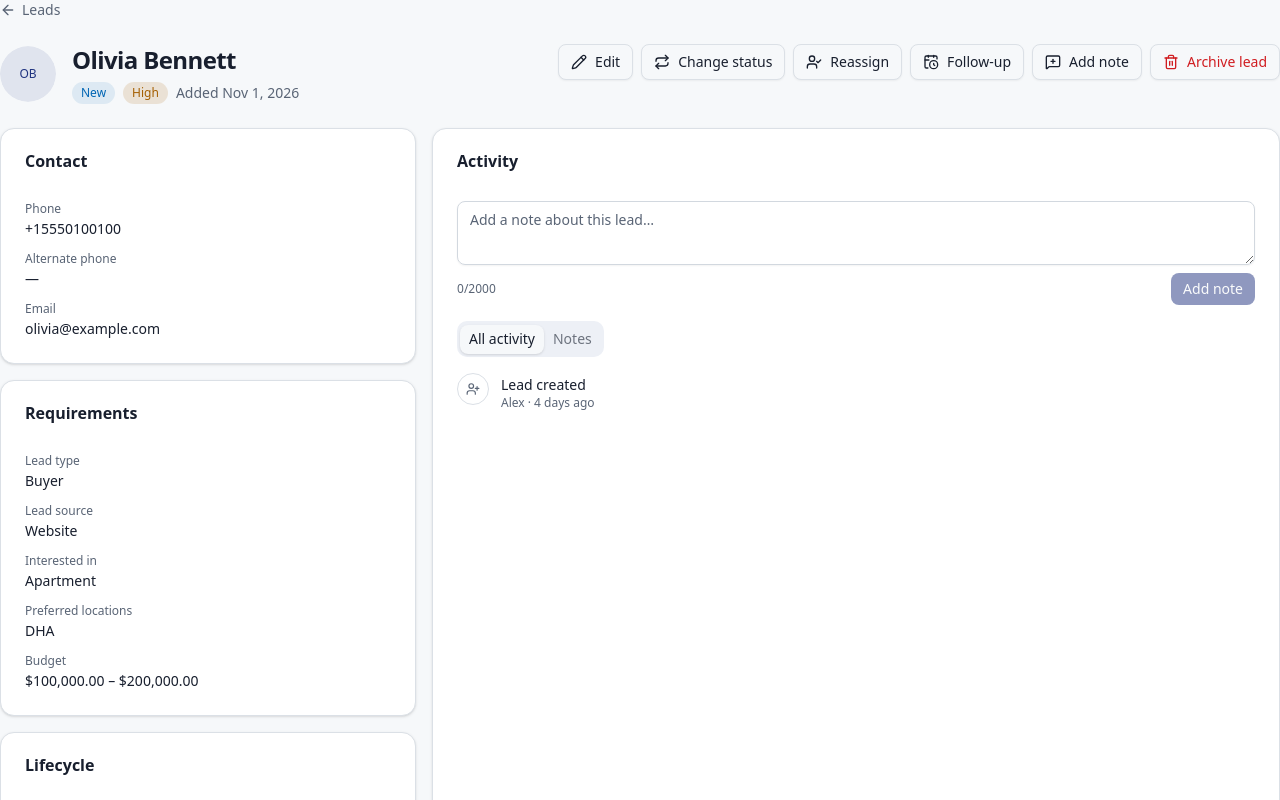
LeadDetailPage › requires a reason before marking a lead as lost
Step 1. Click the button "Change status" → click(713, 62), box [641, 44, 785, 80]
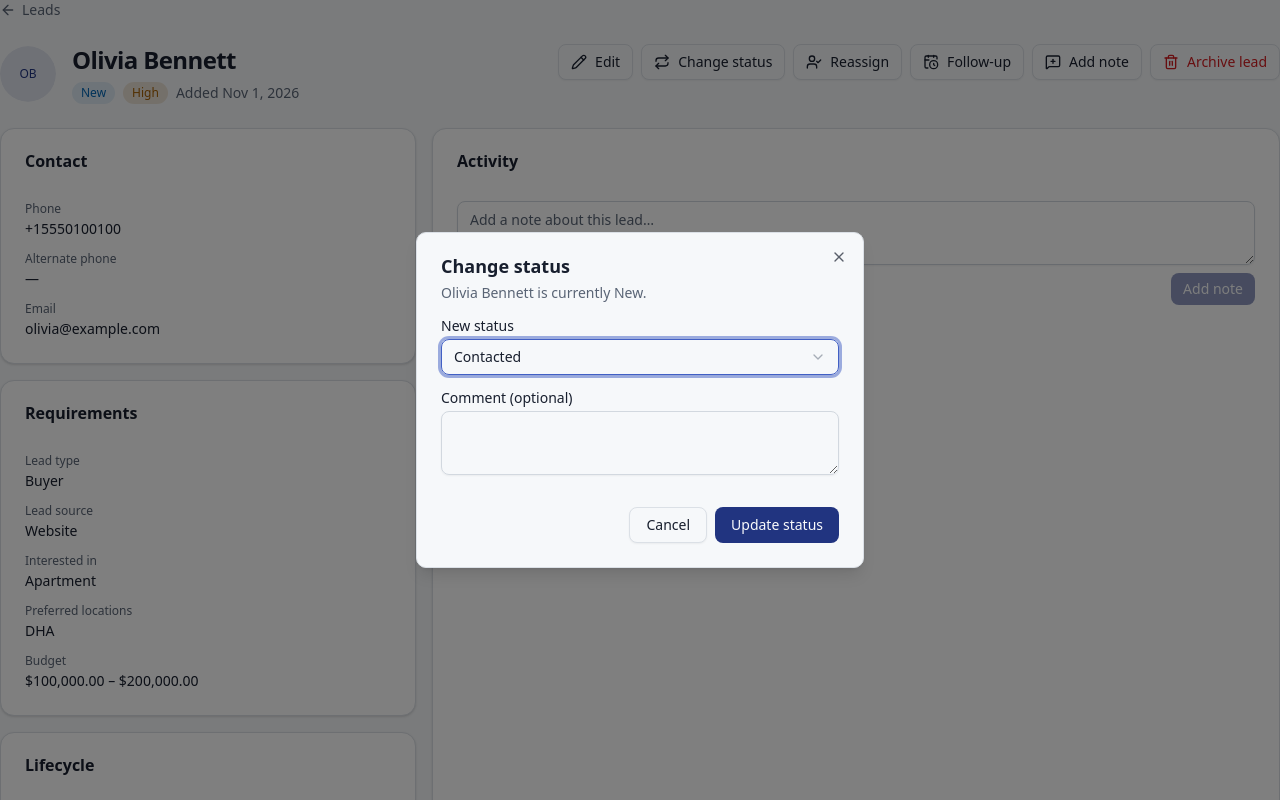
Step 2. Click the dropdown → click(488, 356), box [441, 339, 839, 375]
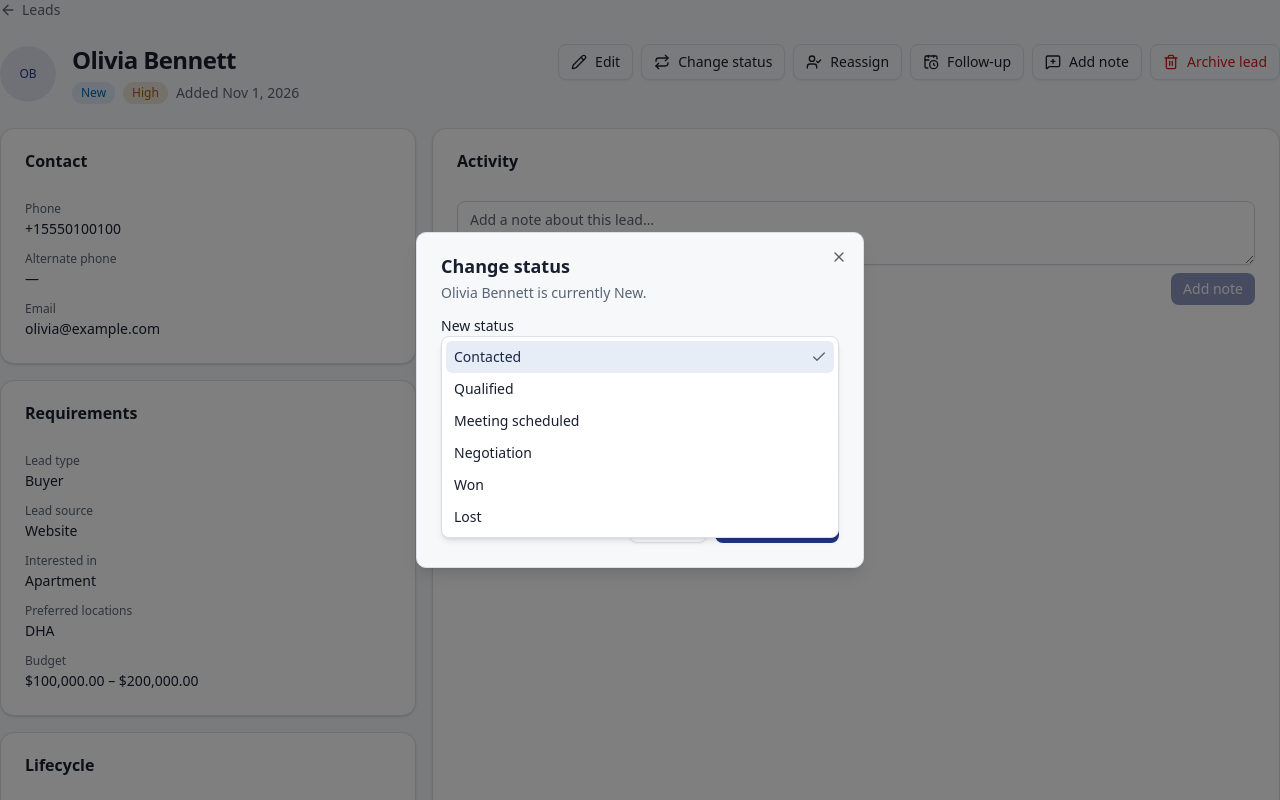
Step 3. Click the option "Lost" → click(468, 516), box [454, 507, 482, 526]
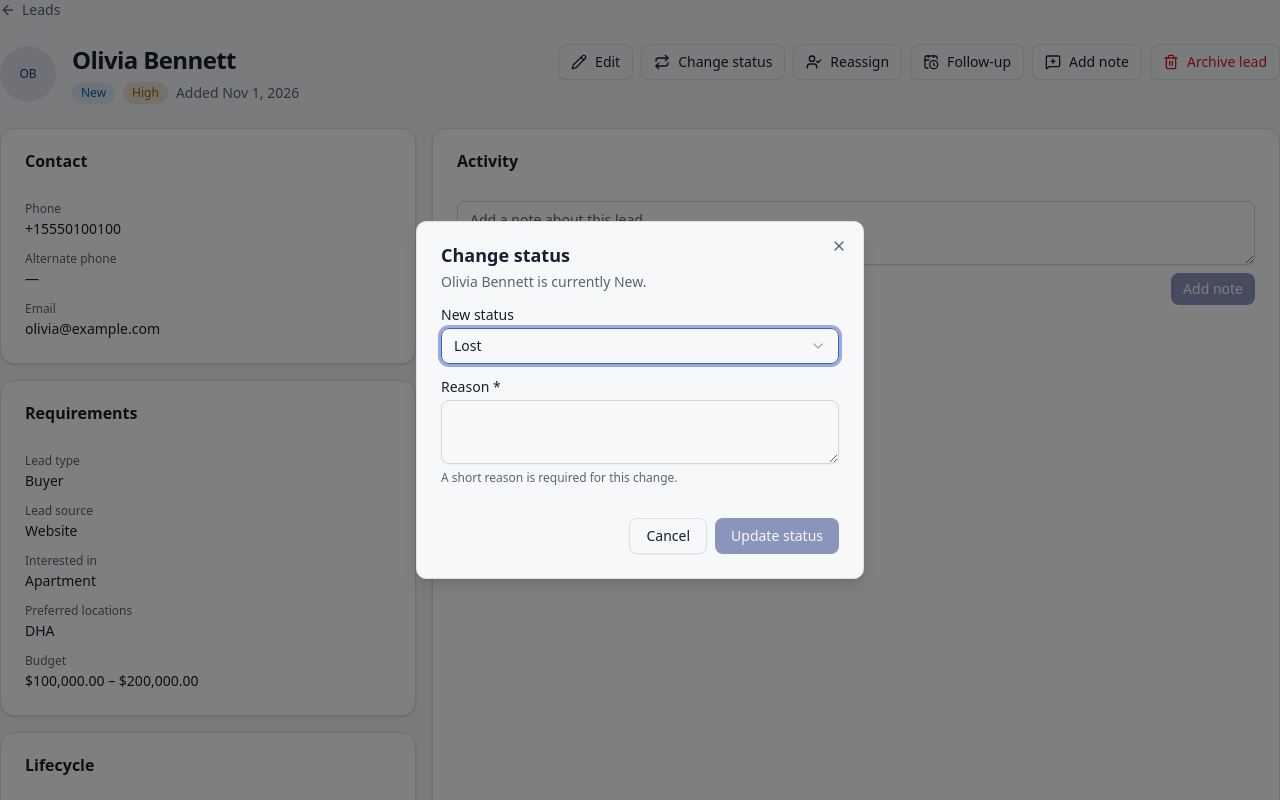
expect the button "Update status" is disabled: met, box [715, 518, 839, 554]
Step 4. Type "Bought elsewhere" into the text box labelled "Reason *" → (640, 432), box [441, 400, 839, 464]
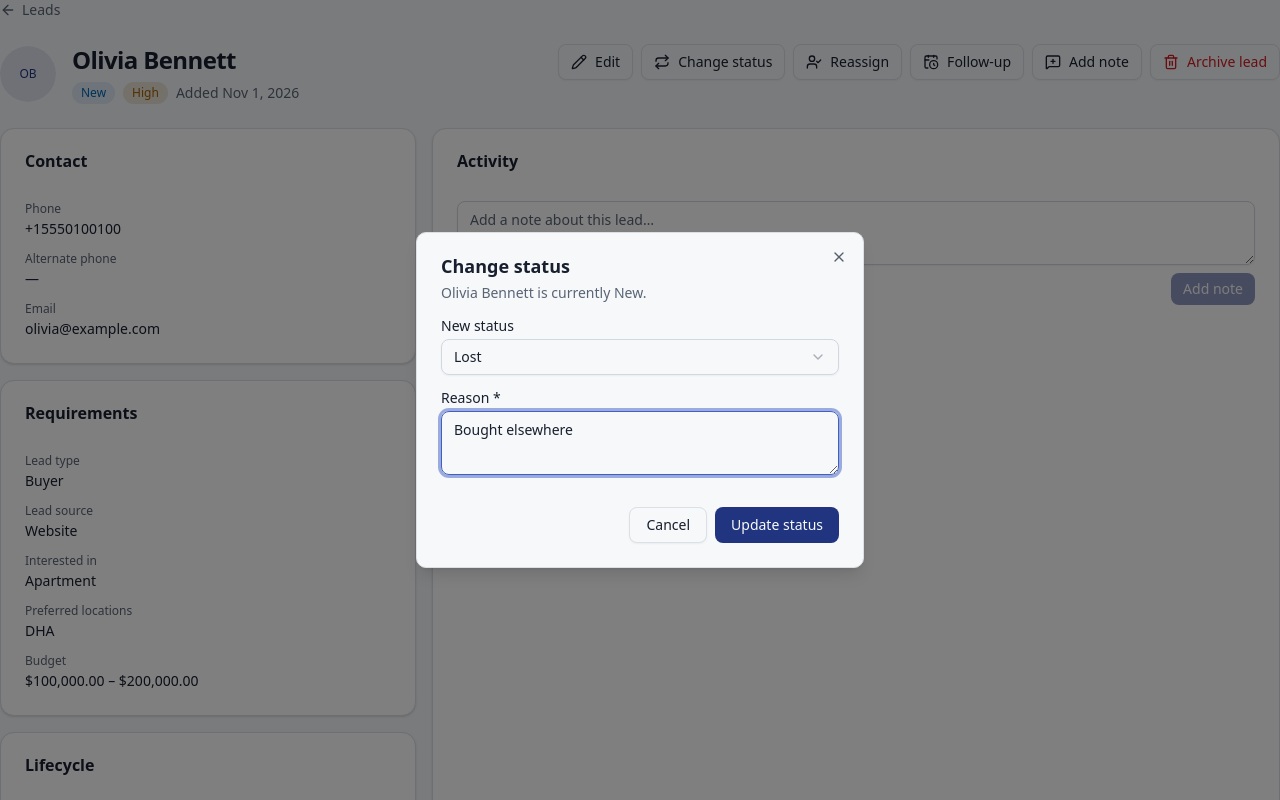
expect the button "Update status" is enabled: met, box [715, 507, 839, 543]
